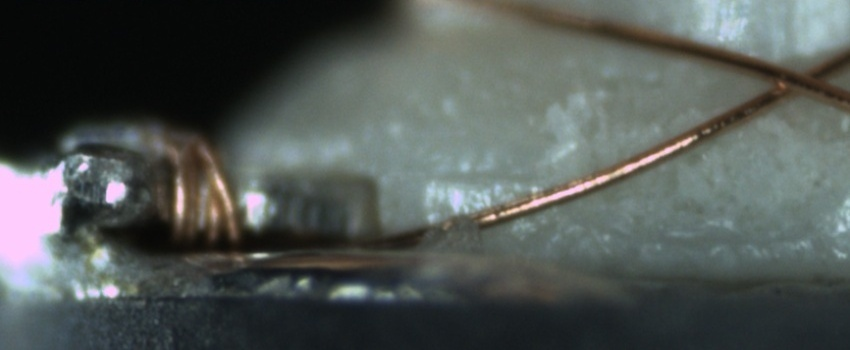CL: (754, 52, 843, 104)
DL: (428, 153, 560, 209)
TE: (152, 117, 247, 252)
